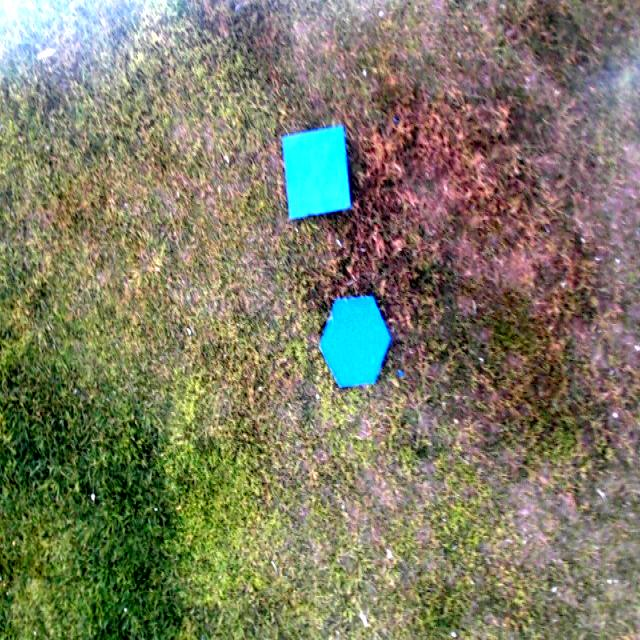blue_hexagon: (318, 295, 392, 389)
blue_square: (281, 124, 351, 222)
